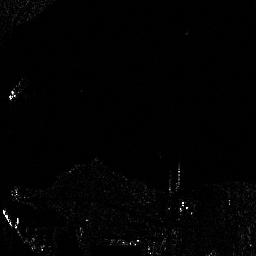ship: (7, 78, 26, 100)
